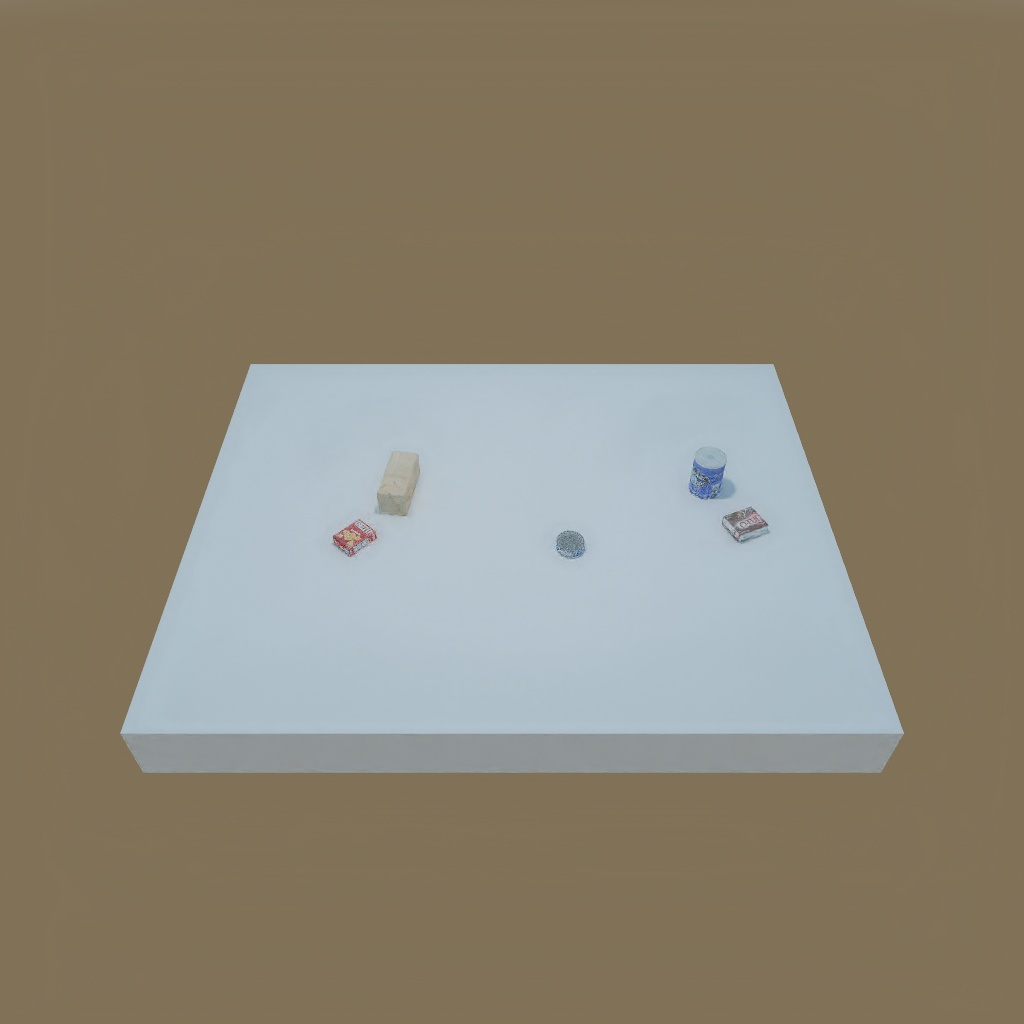master_chef_can: (688, 445, 726, 499)
pudding_box: (719, 509, 768, 545)
wood_block: (378, 448, 425, 519)
